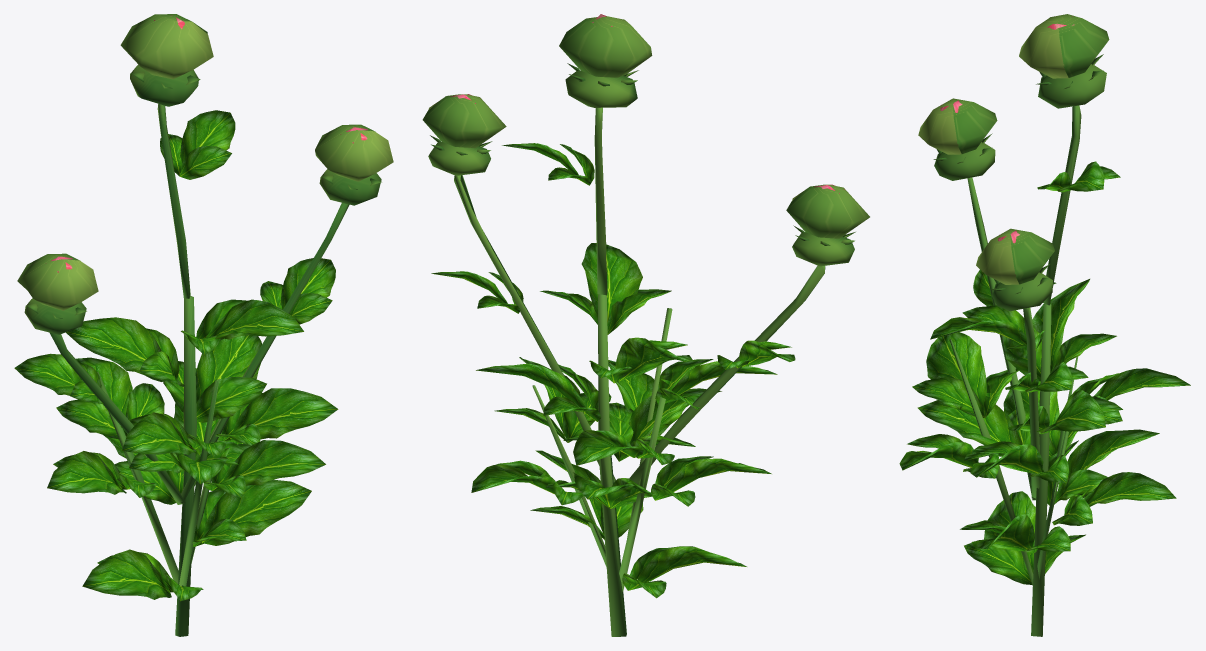
Rendered from NP_Dahlia_BudForming_LOD1.fbx.
The picture shows the model from 3 angles, left to right: view 1: azimuth 30°, elevation 25°; view 2: azimuth 150°, elevation 25°; view 3: azimuth 270°, elevation 25°; orthographic projection. The views are drawn at different scales.
Parts seen in each view (by area): view 1: NP_Dahlia_BudForming; view 2: NP_Dahlia_BudForming; view 3: NP_Dahlia_BudForming.
Boxes of the visible parts, bbox=[...] form: NP_Dahlia_BudForming: bbox=[14, 14, 393, 636]; NP_Dahlia_BudForming: bbox=[422, 14, 869, 636]; NP_Dahlia_BudForming: bbox=[899, 14, 1190, 636].
Bounding box in the file's own units: 55.76 × 82.46 × 35.47.
